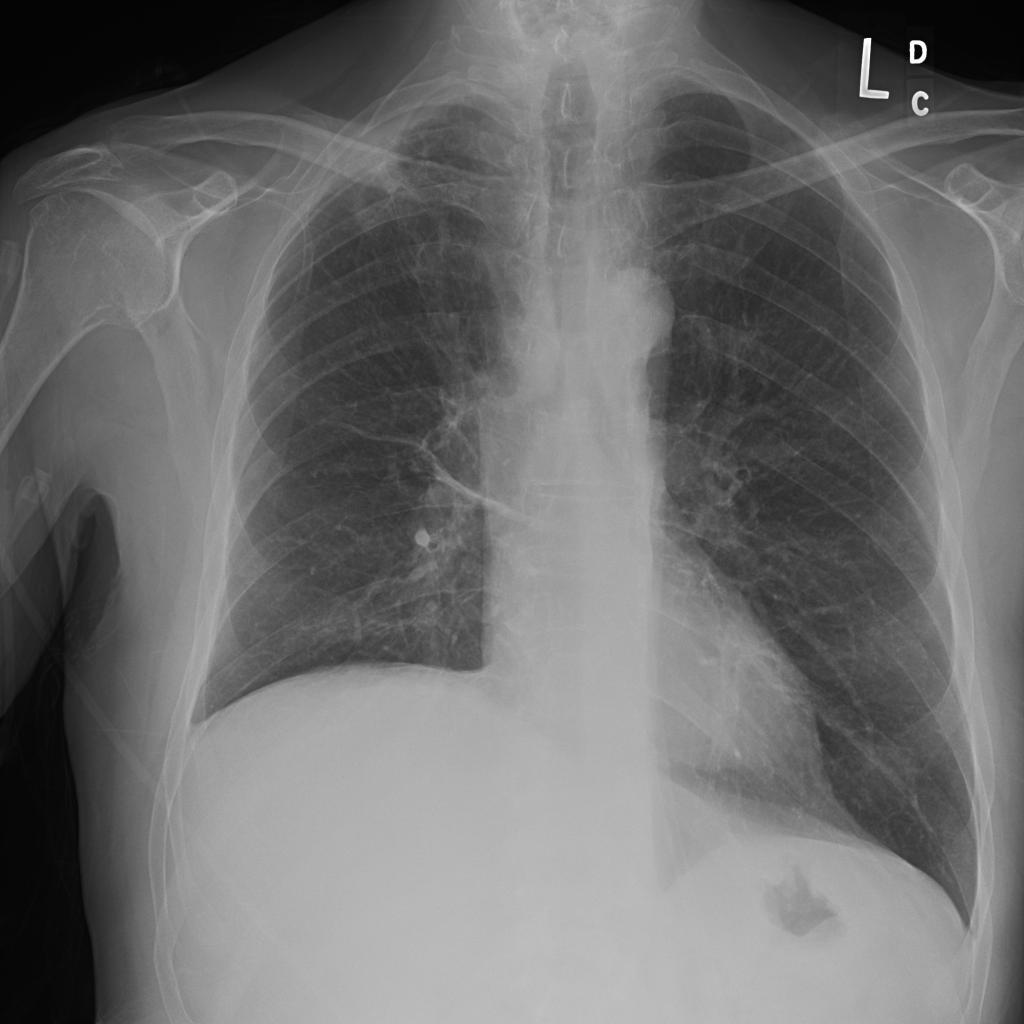Nodule: (175, 68, 214, 113), (390, 364, 426, 400)
